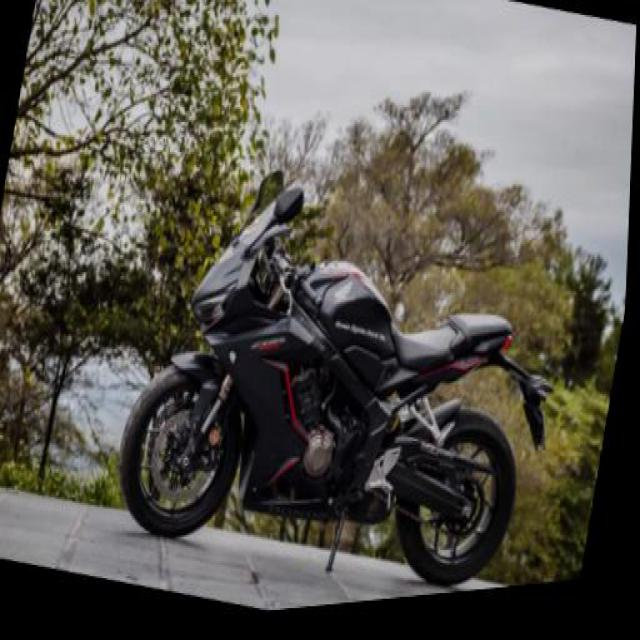CBR650R: (110, 131, 566, 629)
